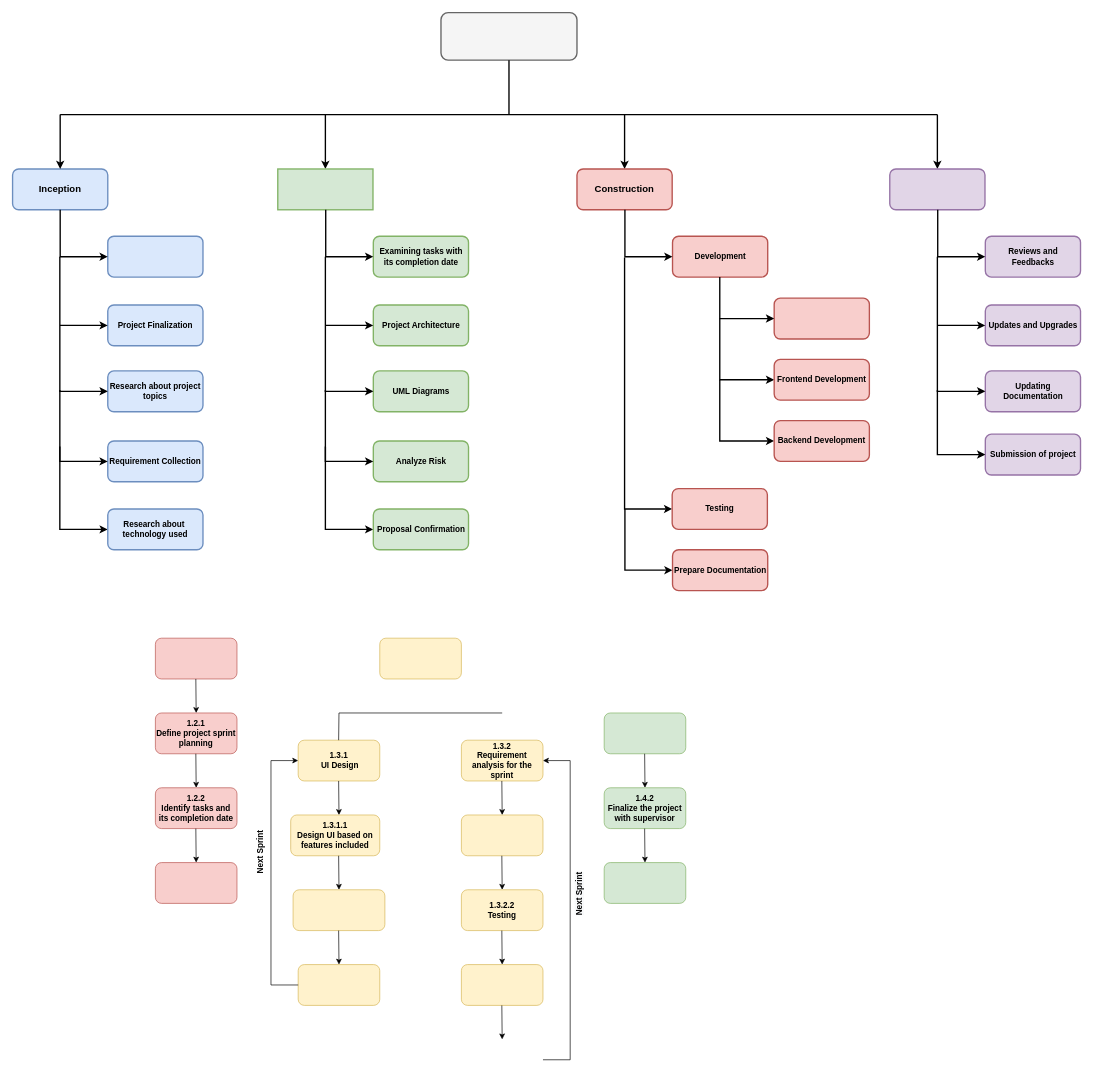
Some shapes in this 1093 by 1077 pixel diagram are drawn without their labels. The shapes that lost their labels are listed below. From the top down, each one's box as (x1, y1, x2, y2) in pixels, then its label:
(440, 12, 577, 61): Digital Menu
(277, 168, 373, 210): Elaboration
(889, 168, 985, 210): Transition
(107, 235, 203, 277): Project Idea
(773, 297, 870, 339): Database Design
(155, 638, 237, 679): 1.2 Planning
(379, 638, 461, 679): 1.3 Development
(604, 712, 686, 754): 1.4.1 Prepare a document
(461, 814, 543, 856): 1.3.2.1 Sprint execution
(155, 862, 237, 903): 1.2.3 Analyze risks
(604, 862, 686, 903): 1.4.3 Project Submission
(292, 889, 385, 931): 1.3.1.2 Review
(298, 964, 380, 1005): 1.3.1.3 Evaluation
(461, 964, 543, 1005): 1.3.2.3 Review
